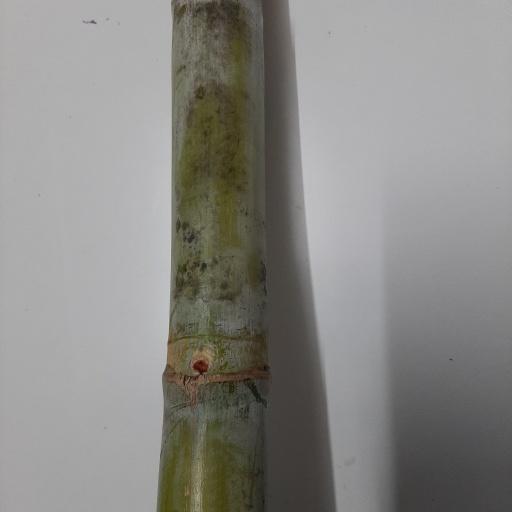Damage_Bud: (189, 348, 213, 375)
